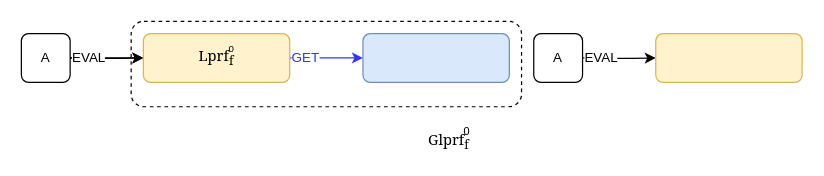
Some shapes in this 824 by 176 pixel diagram are drawn without their labels. The centre of each missing label's shape, as x and y in pixels:
"Glprf 1" belongs at point (728, 57).
"Key" belongs at point (435, 57).
